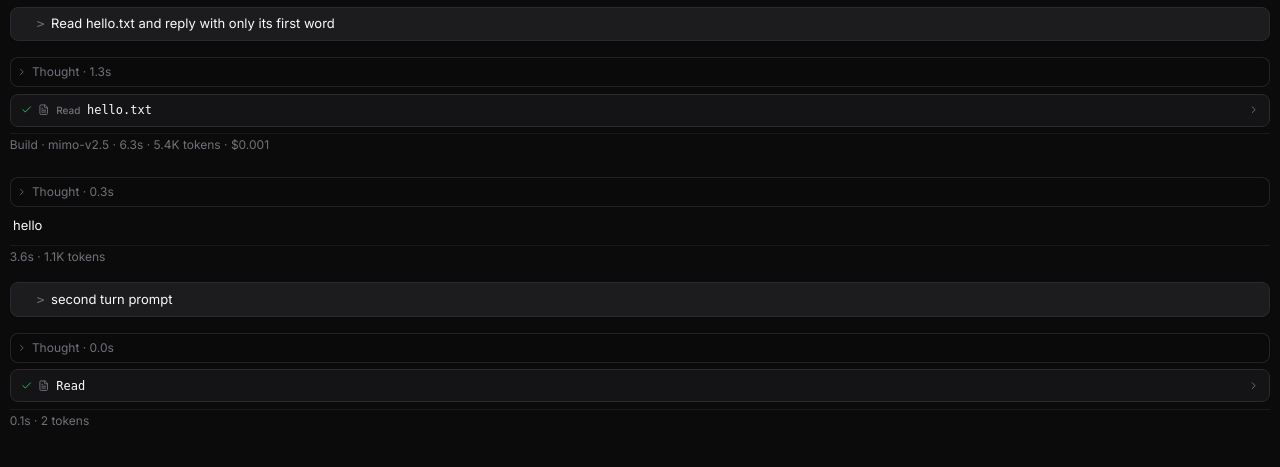
Test: TranscriptView › renders hello-read turn rows in store order
The image size is (1280, 467).
Expected: the element with test id "user-turn" shows "Read hello.txt", top-left (11, 8), bottom-right (1269, 40)
Click the button "Thought · 1.3s" at (72, 72), box top-left (11, 58), bottom-right (1269, 86)
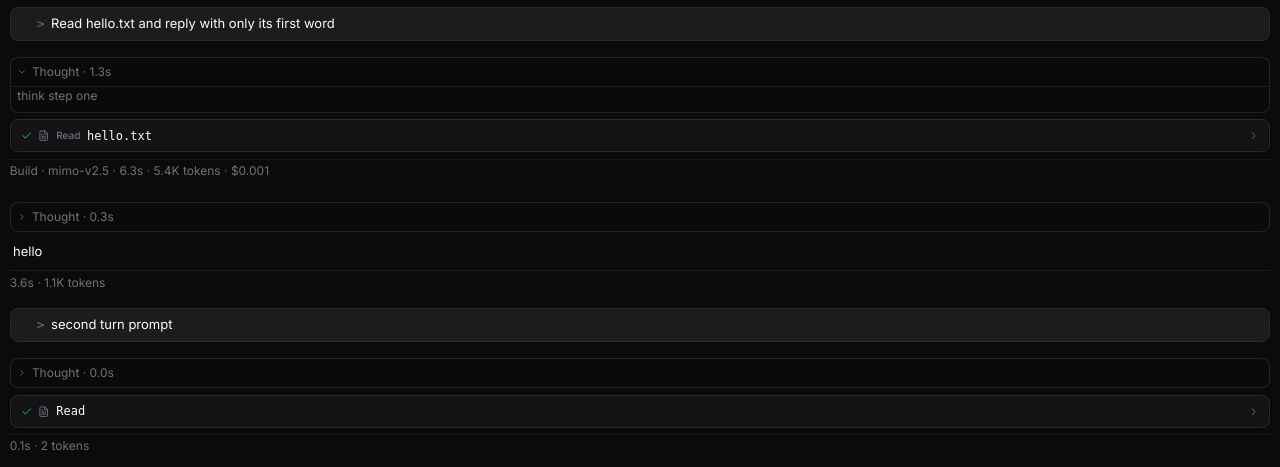
Expected: the element with test id "assistant-turn" shows "Read", top-left (11, 120), bottom-right (1269, 151)
Expected: the element with test id "assistant-turn" shows "think step one", top-left (17, 88), bottom-right (97, 103)
